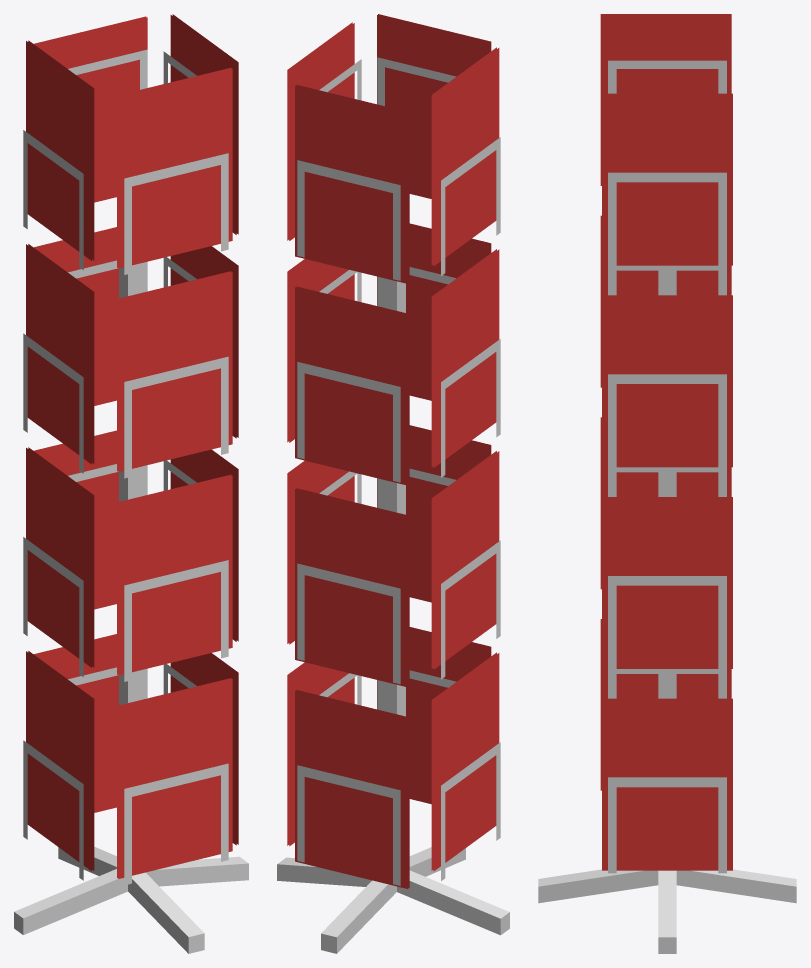
The model's file is postcard_stand.glb.
The picture shows the model from 3 angles, left to right: view 1: azimuth 30°, elevation 25°; view 2: azimuth 150°, elevation 25°; view 3: azimuth 270°, elevation 25°; orthographic projection.
Parts seen in each view (by area): view 1: Plane.003, Plane.004, Cube.005; view 2: Plane.003, Plane.004, Cube.005; view 3: Plane.003, Plane.004, Cube.005.
Part boxes in pixels (x1=…): Plane.003: x1=26, y1=14, x2=238, y2=878; Plane.004: x1=23, y1=49, x2=228, y2=885; Cube.005: x1=14, y1=262, x2=248, y2=953; Plane.003: x1=287, y1=14, x2=499, y2=888; Plane.004: x1=297, y1=57, x2=500, y2=885; Cube.005: x1=277, y1=277, x2=509, y2=953; Plane.003: x1=600, y1=14, x2=732, y2=870; Plane.004: x1=608, y1=60, x2=726, y2=873; Cube.005: x1=538, y1=265, x2=796, y2=953.
Size of the model in its own units: 0.3133 by 1.14 by 0.3133.
